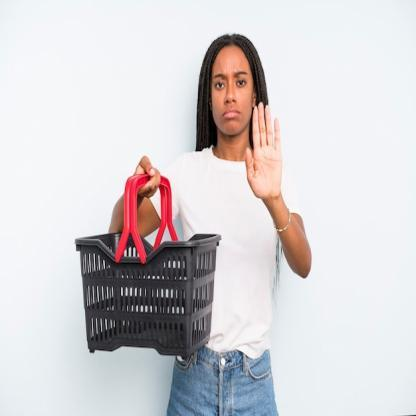stop: (244, 98, 284, 203)
